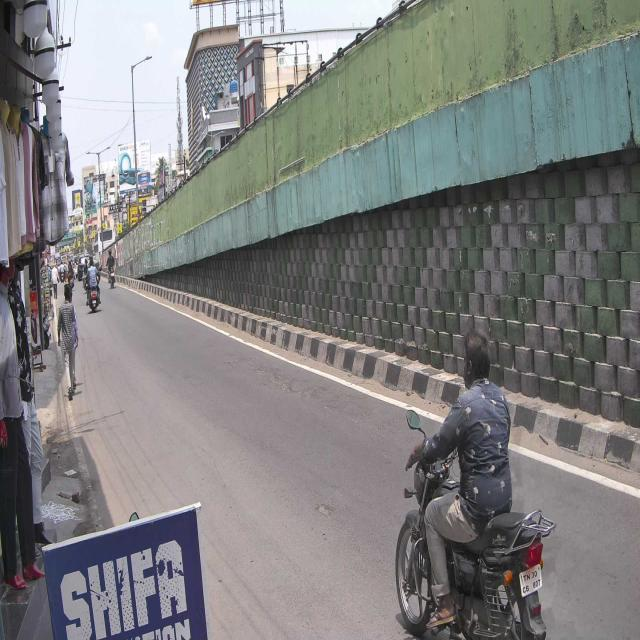single_rider: (397, 322, 557, 640)
